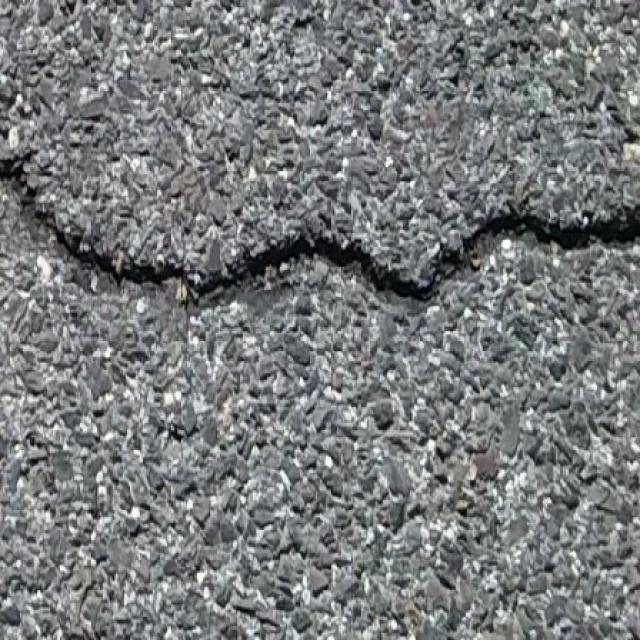horizontal crack: (3, 147, 638, 319)
